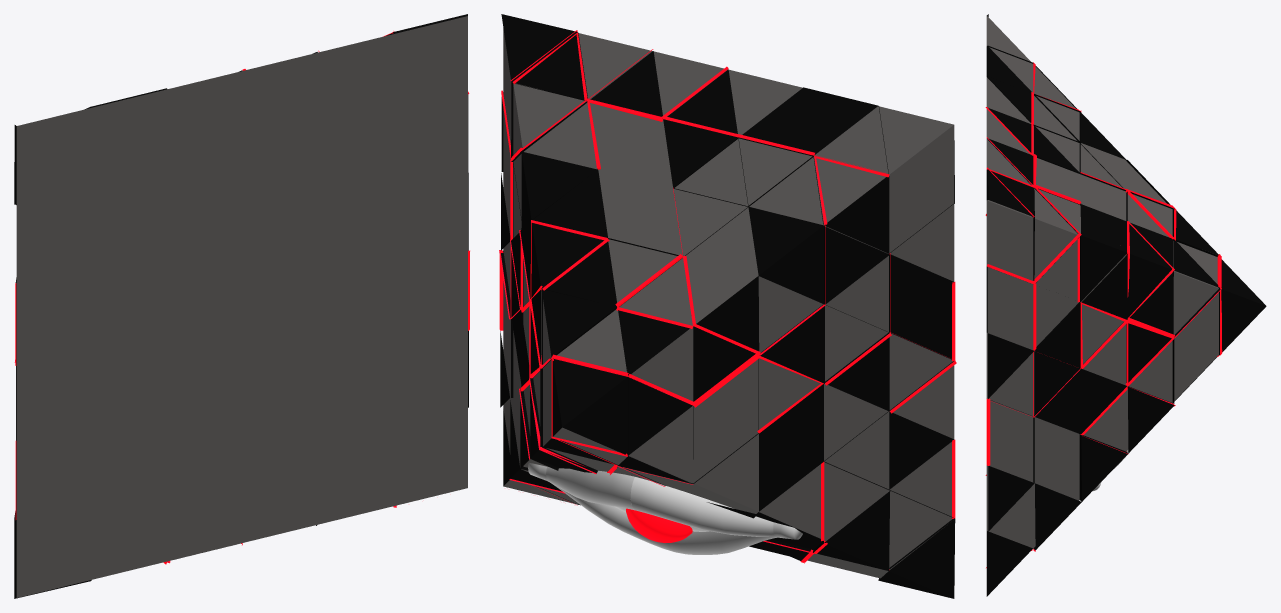
Rendered from PiramideBossCima.fbx.
The picture shows the model from 3 angles, left to right: view 1: azimuth 30°, elevation 25°; view 2: azimuth 150°, elevation 25°; view 3: azimuth 270°, elevation 25°; orthographic projection. The views are drawn at different scales.
Visible parts, largest first — view 1: CimaBase, CimaRelevo1; view 2: CimaBase, CimaRelevo1, CimaRelevo3, VoltaCima, VoltaBaixo, CimaRelevo2, Pupil; view 3: CimaBase, CimaRelevo1, CimaRelevo3, CimaRelevo2.
Part boxes in pixels (x1=…): CimaBase: x1=16, y1=16, x2=467, y2=597; CimaRelevo1: x1=14, y1=14, x2=468, y2=598; CimaBase: x1=503, y1=28, x2=954, y2=578; CimaRelevo1: x1=500, y1=14, x2=955, y2=598; CimaRelevo3: x1=499, y1=31, x2=956, y2=562; VoltaCima: x1=530, y1=466, x2=802, y2=539; VoltaBaixo: x1=528, y1=462, x2=800, y2=554; CimaRelevo2: x1=499, y1=30, x2=955, y2=569; Pupil: x1=626, y1=508, x2=692, y2=542; CimaBase: x1=986, y1=16, x2=1218, y2=596; CimaRelevo1: x1=986, y1=14, x2=1266, y2=596; CimaRelevo3: x1=985, y1=63, x2=1222, y2=567; CimaRelevo2: x1=986, y1=62, x2=1221, y2=551.
Bounding box in the file's own units: 327 × 328 × 208.
